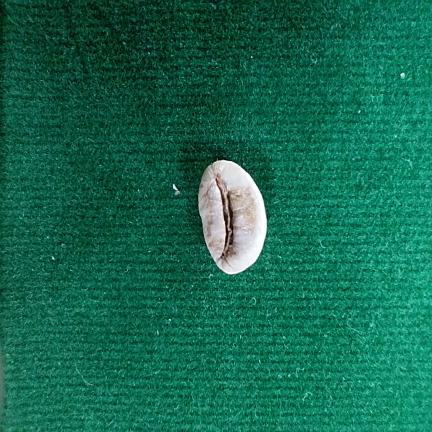immature: (198, 161, 266, 274)
